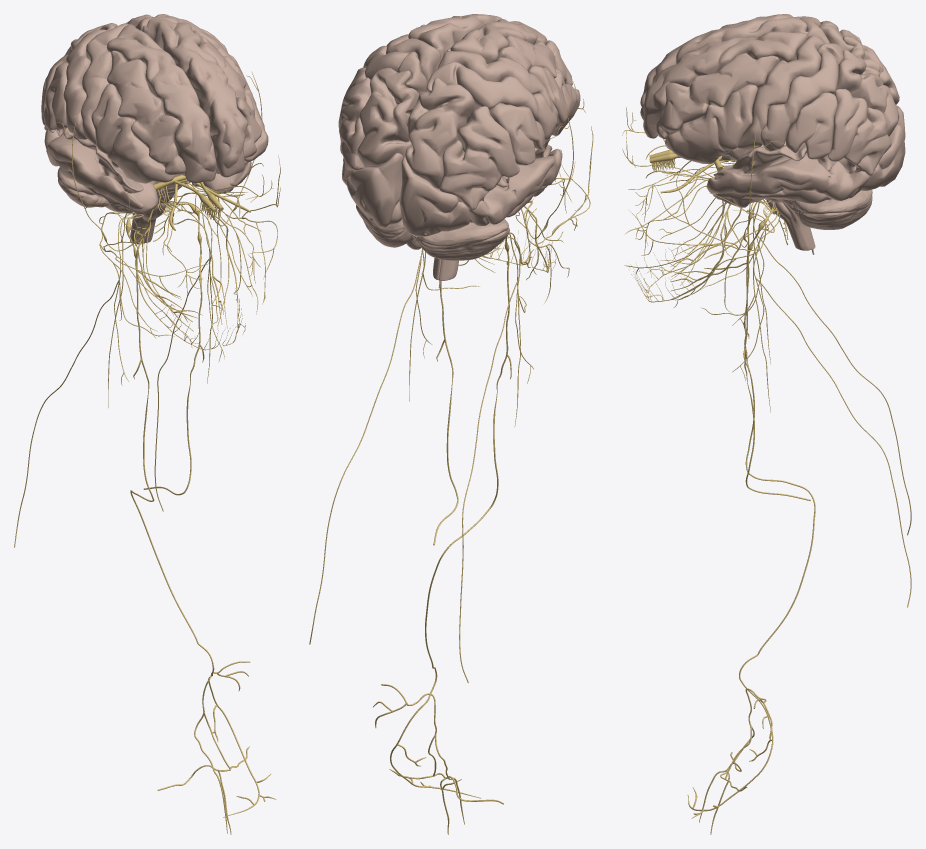
File: detail-nervous-head.glb
3 views of the same model, side by side, from view 1: azimuth 30°, elevation 25°; view 2: azimuth 150°, elevation 25°; view 3: azimuth 270°, elevation 25° (orthographic). The views are drawn at different scales.
Parts seen in each view (by area): view 1: bp-FMA72653, bp-FMA72654, bp-FMA72655, bp-FMA72657, za-b50e8234ce8fbe65, bp-FMA72685, bp-FMA72661, bp-FMA72665, bp-FMA72656, bp-FMA72667, bp-FMA260791, bp-FMA72687 (+10 smaller); view 2: bp-FMA72669, bp-FMA72671, bp-FMA72672, bp-FMA67944, bp-FMA72975, bp-FMA72665, bp-FMA72976, bp-FMA72685, za-b50e8234ce8fbe65, bp-FMA72653, bp-FMA72667, bp-FMA72670 (+10 smaller); view 3: bp-FMA72654, bp-FMA72656, bp-FMA72686, bp-FMA72658, bp-FMA72670, bp-FMA72666, bp-FMA72662, bp-FMA72653, za-b50e8234ce8fbe65, bp-FMA72668, bp-FMA72672, bp-FMA67944 (+9 smaller).
Part boxes in pixels (x1,y1,x2,y2): bp-FMA72653: [106, 24, 216, 182]; bp-FMA72654: [142, 18, 247, 177]; bp-FMA72655: [107, 50, 185, 175]; bp-FMA72657: [91, 84, 174, 183]; za-b50e8234ce8fbe65: [125, 214, 276, 834]; bp-FMA72685: [44, 129, 143, 209]; bp-FMA72661: [81, 23, 129, 146]; bp-FMA72665: [63, 23, 117, 139]; bp-FMA72656: [194, 31, 261, 158]; bp-FMA72667: [44, 62, 68, 129]; bp-FMA260791: [58, 127, 185, 193]; bp-FMA72687: [59, 167, 158, 214]; bp-FMA72669: [439, 106, 519, 209]; bp-FMA72671: [405, 77, 475, 188]; bp-FMA72672: [357, 67, 419, 167]; bp-FMA67944: [356, 205, 509, 260]; bp-FMA72975: [399, 155, 470, 237]; bp-FMA72665: [426, 61, 557, 140]; bp-FMA72976: [346, 153, 403, 228]; bp-FMA72685: [469, 148, 562, 225]; za-b50e8234ce8fbe65: [373, 237, 511, 834]; bp-FMA72653: [446, 19, 547, 63]; bp-FMA72667: [489, 103, 544, 165]; bp-FMA72670: [338, 77, 371, 179]; bp-FMA72654: [640, 31, 807, 138]; bp-FMA72656: [656, 53, 779, 139]; bp-FMA72686: [706, 155, 869, 200]; bp-FMA72658: [665, 84, 757, 163]; bp-FMA72670: [828, 88, 891, 175]; bp-FMA72666: [760, 43, 844, 151]; bp-FMA72662: [737, 35, 823, 149]; bp-FMA72653: [640, 14, 808, 106]; za-b50e8234ce8fbe65: [687, 202, 815, 834]; bp-FMA72668: [786, 92, 837, 159]; bp-FMA72672: [833, 49, 899, 136]; bp-FMA67944: [791, 189, 872, 229].
Bounding box in the file's own units: 0.1524 × 0.6019 × 0.2003.
